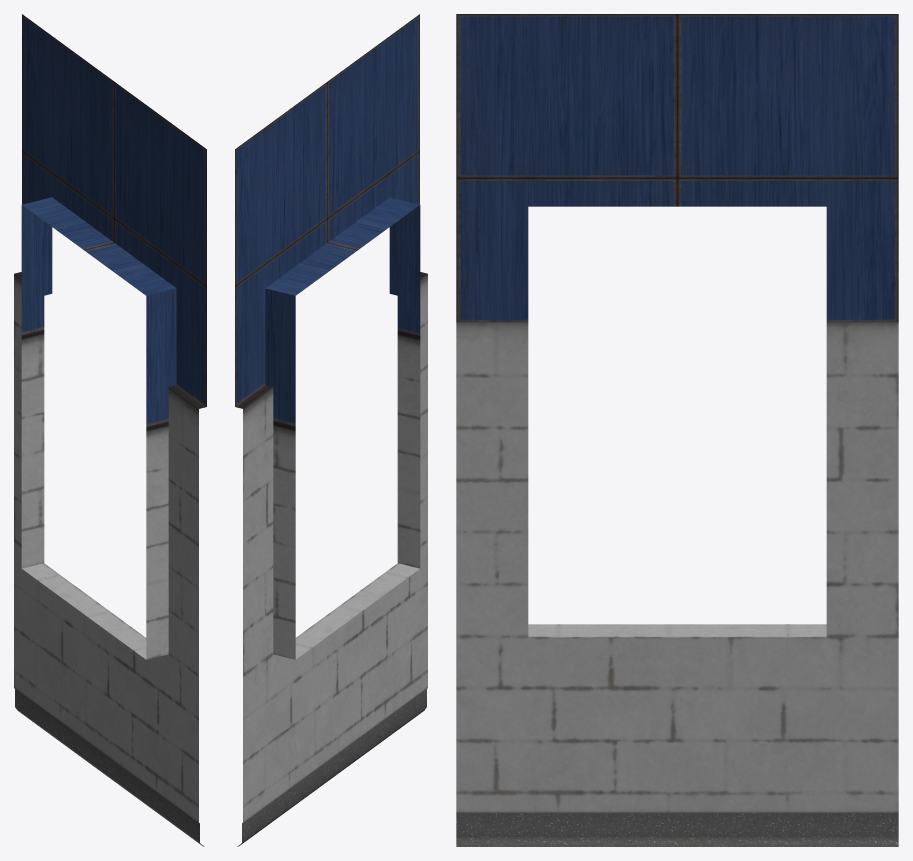
Rendered from Cafateria 4M Window H.fbx.
3 renders of one model, left to right at view 1: azimuth 30°, elevation 25°; view 2: azimuth 150°, elevation 25°; view 3: azimuth 270°, elevation 25°, orthographic. The views are drawn at different scales.
Visible parts, largest first — view 1: Cafateria_2M_Window_H; view 2: Cafateria_2M_Window_H; view 3: Cafateria_2M_Window_H.
Part boxes in pixels (bbox=[...]): Cafateria_2M_Window_H: bbox=[14, 14, 206, 846]; Cafateria_2M_Window_H: bbox=[235, 14, 427, 846]; Cafateria_2M_Window_H: bbox=[456, 14, 898, 846].
Size of the model in its own units: 19.06 by 416 by 200.
